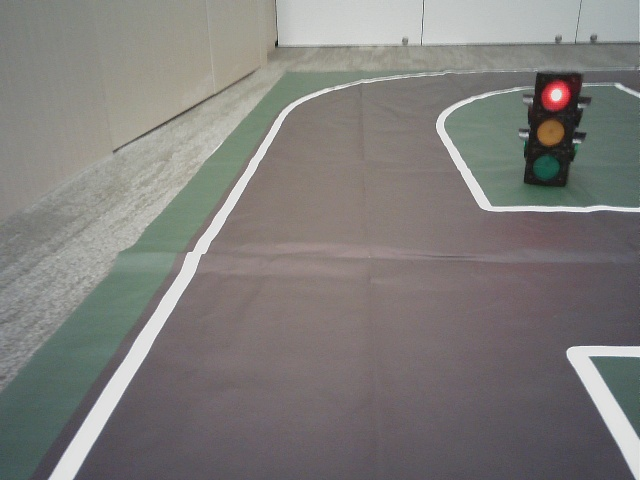red: (533, 77, 571, 179)
